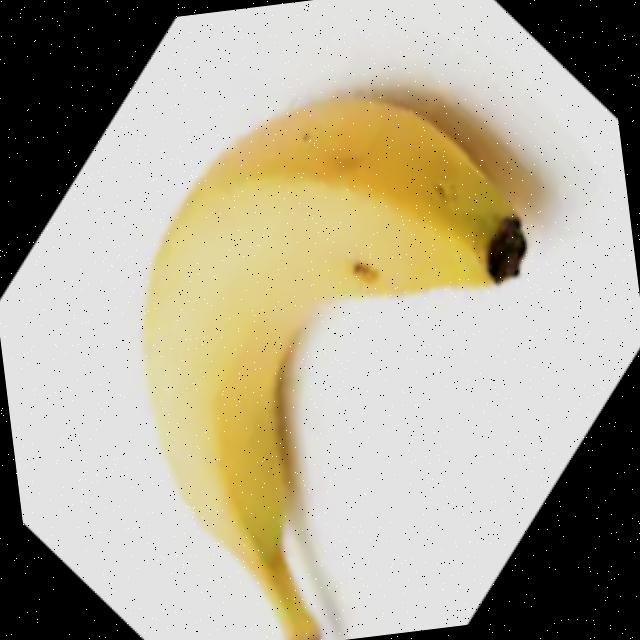Ripe: (108, 61, 575, 640)
